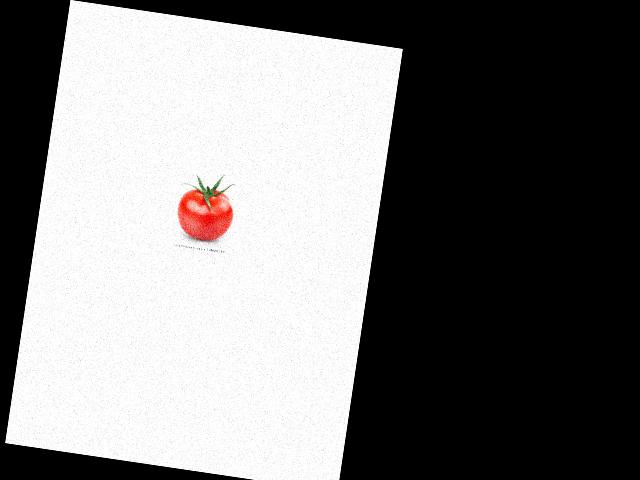tomato: (174, 185, 237, 243)
